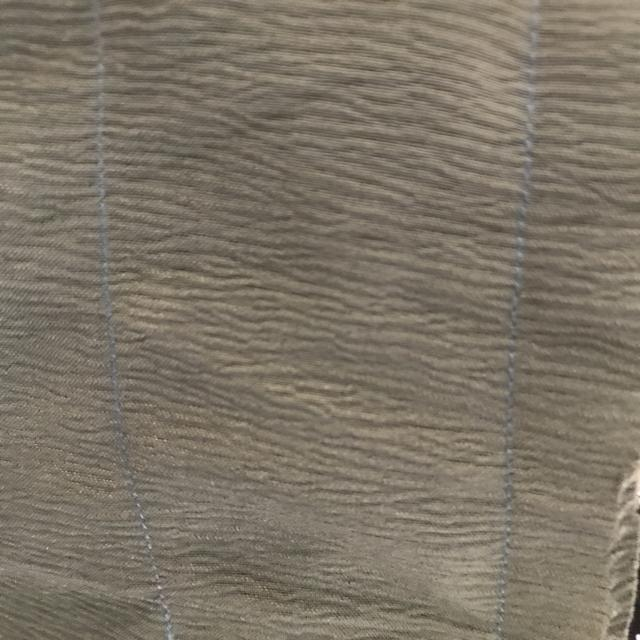good: (508, 104, 556, 202)
